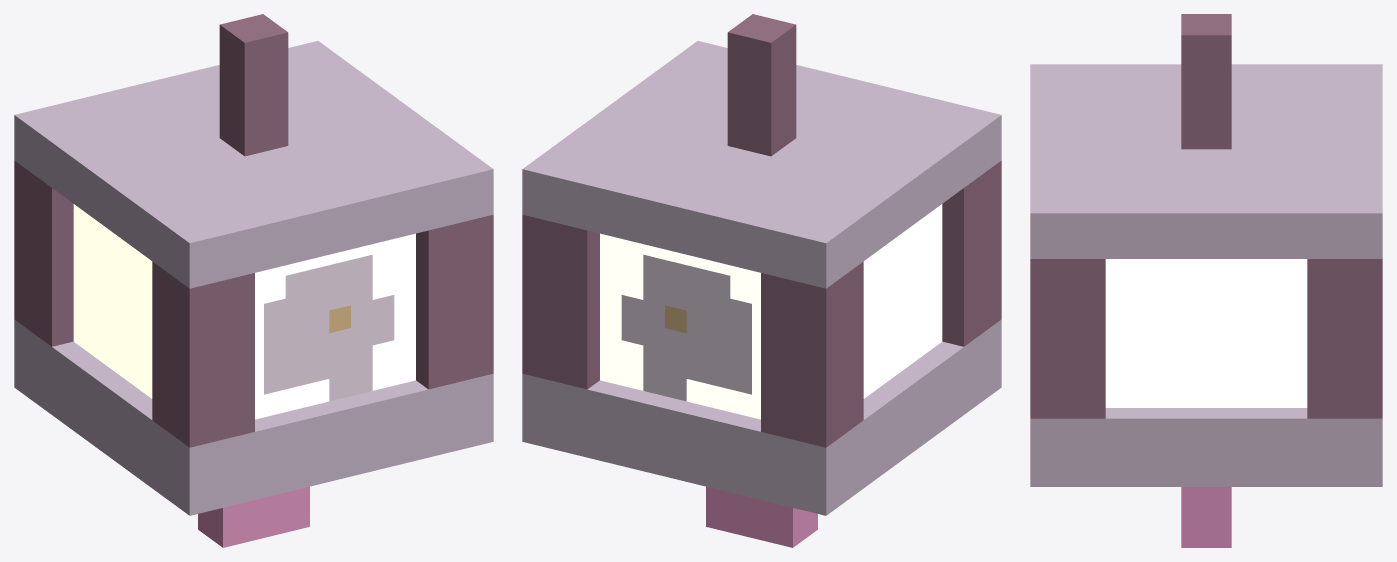
File: hanging_blossom_lantern.glb
3 views of the same model, side by side, from view 1: azimuth 30°, elevation 25°; view 2: azimuth 150°, elevation 25°; view 3: azimuth 270°, elevation 25° (orthographic).
Bounding box in the file's own units: 0.5833 × 0.9167 × 0.5833.
